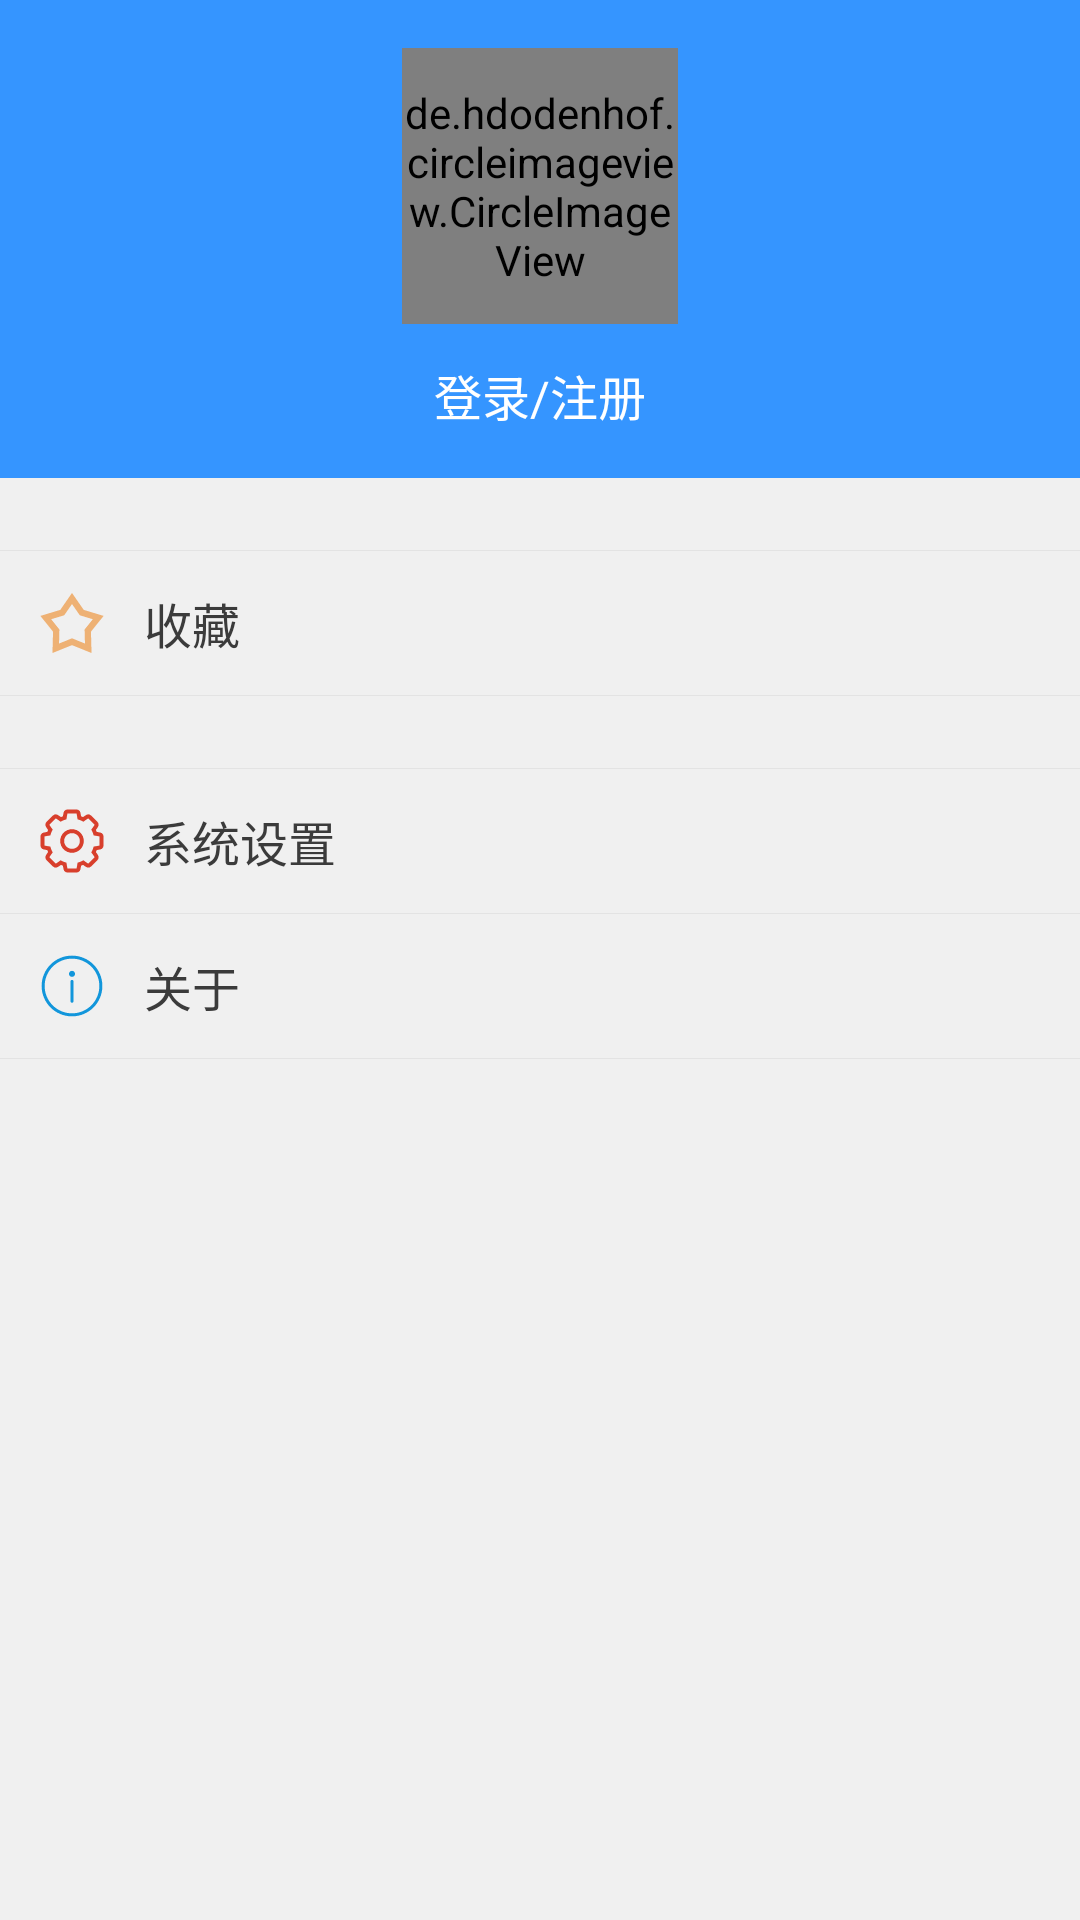

Named icons in this screenshot (1080x1920) and their bounding boxes, (x1=x1, y1=y1, x2=x2, y2=y2):
about: (x1=41, y1=955, x2=103, y2=1017)
collection: (x1=41, y1=593, x2=103, y2=653)
setting: (x1=40, y1=809, x2=104, y2=873)
